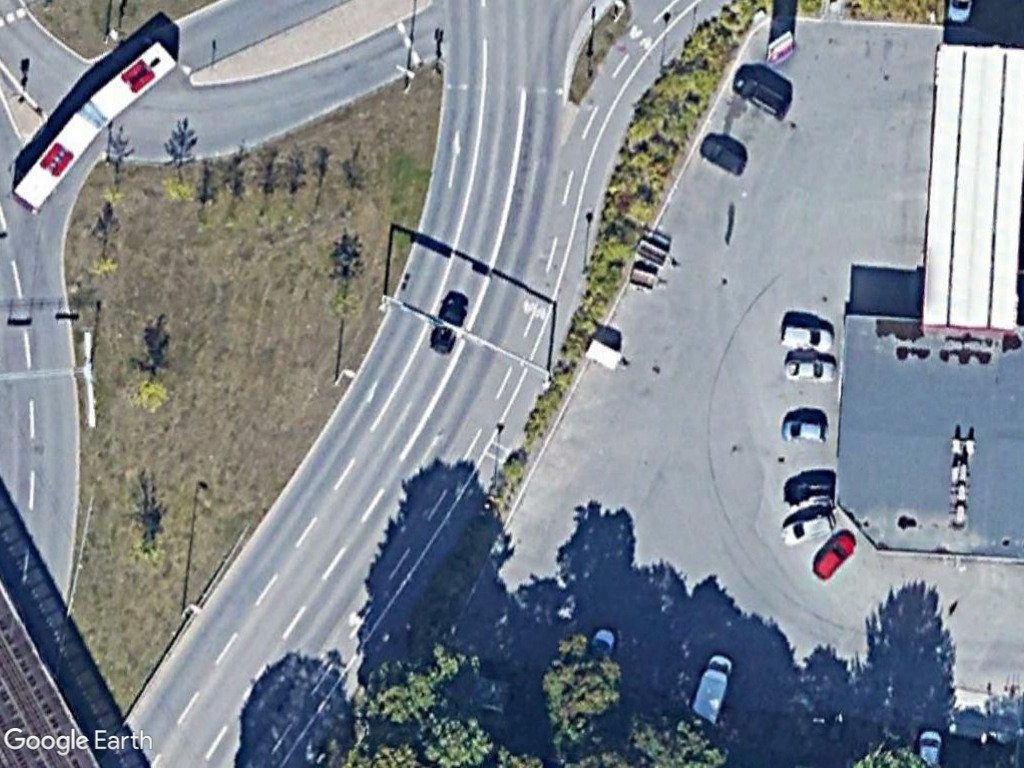bus: (10, 104, 101, 219), (86, 38, 177, 127)
car: (808, 522, 863, 586), (728, 70, 798, 120), (695, 134, 752, 180), (777, 349, 840, 388), (778, 505, 837, 545), (778, 320, 838, 356), (777, 415, 837, 449), (783, 474, 840, 508)
van: (688, 650, 735, 726)
